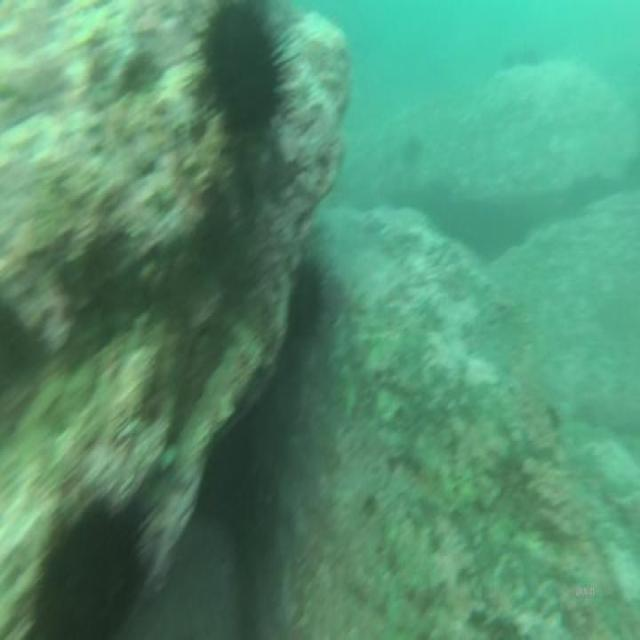echinus: (32, 486, 143, 640), (191, 0, 291, 139), (287, 254, 322, 346)
